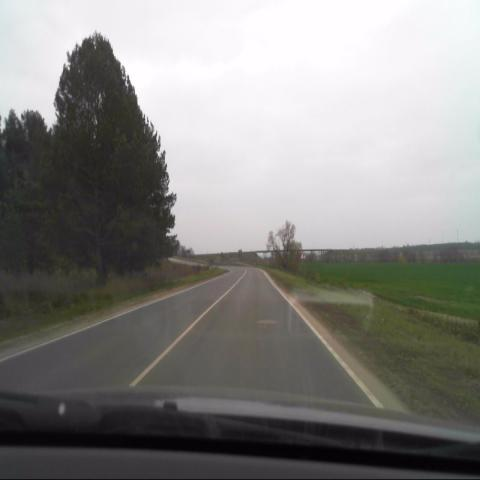1_11_1: (300, 249, 307, 259)
